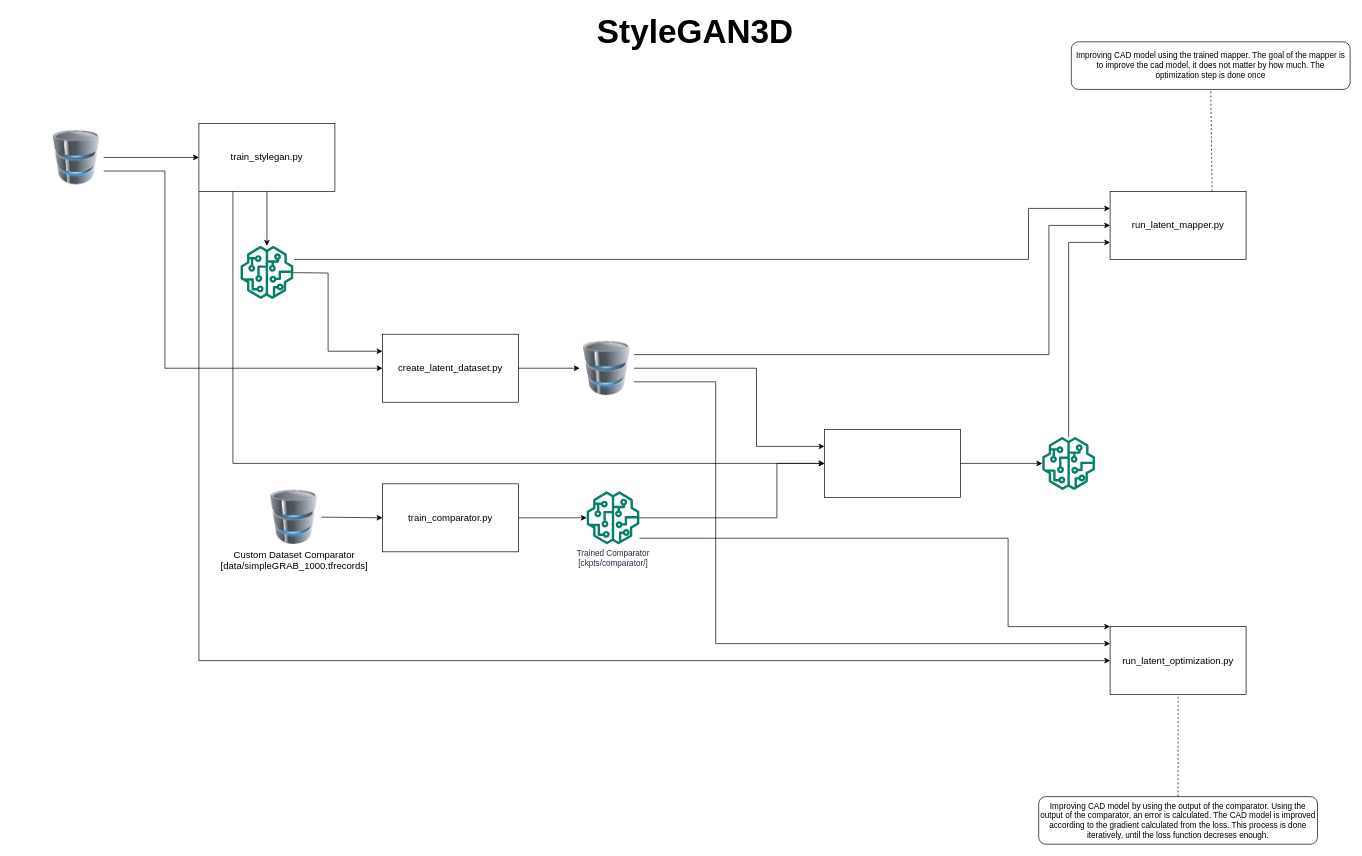
Some shapes in this 1362 by 856 pixel diagram are drawn without their labels. The centre of each missing label's shape, as x and y in pixels:
"Latent Code Dataset [data/latents.tfrecords]" belongs at (x=606, y=368).
"MCB Dataset [data/mcb64_screws.tfrecords]" belongs at (x=76, y=157).
"train_latent_mapper.py" belongs at (x=892, y=463).
"Trained Mapper [ckpts/mapper/]" belongs at (x=1068, y=463).
"Trained StyleGAN [tf_ckpts/ckpt-20]" belongs at (x=266, y=272).
